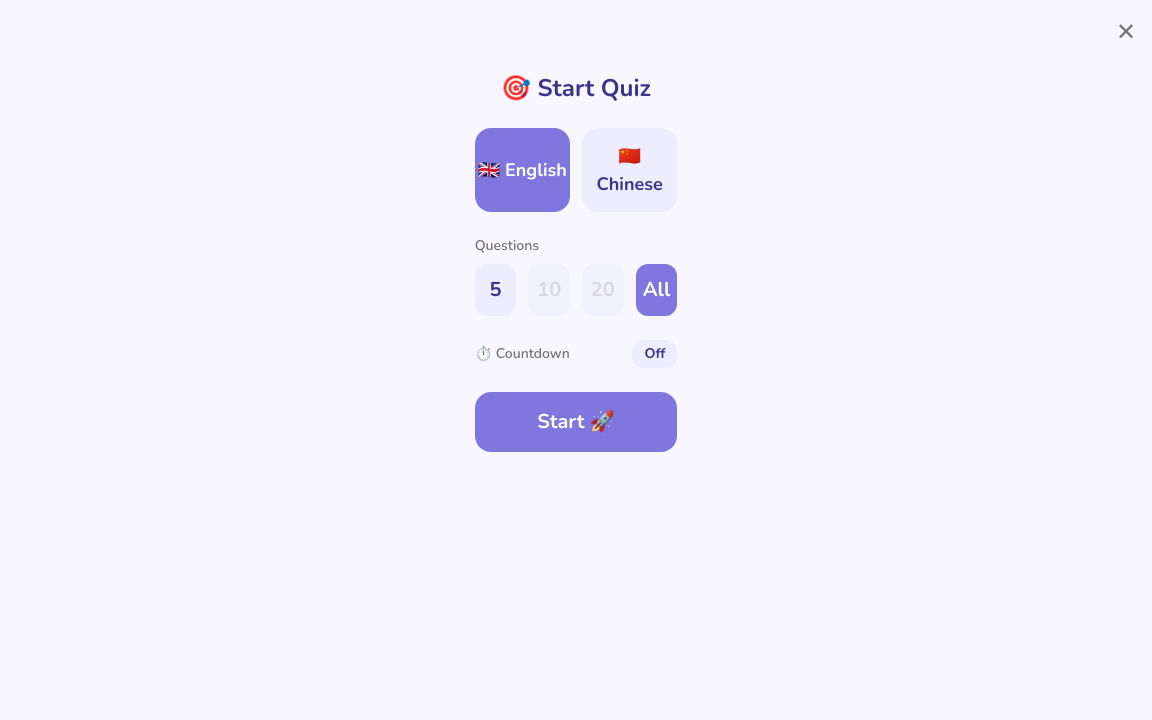
QuizMode — Lobby › shows interval options when countdown is toggled On
Step 1. Click the button "Off" → (655, 354), box [632, 340, 677, 368]
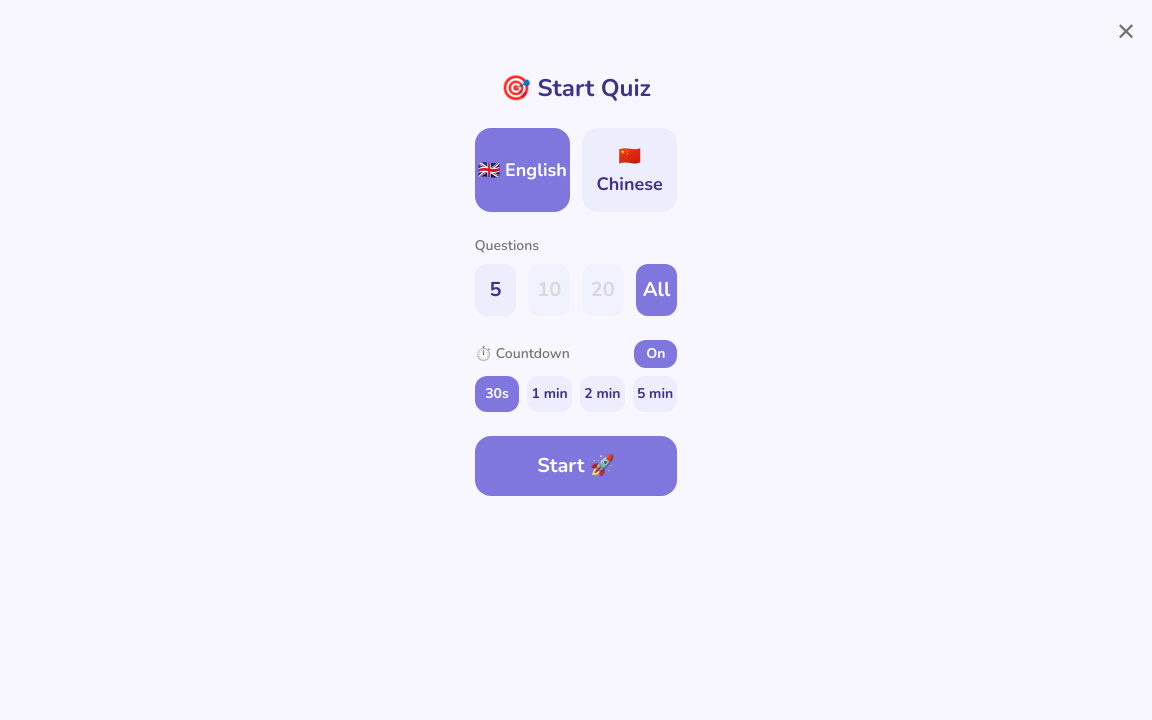
Now the button "30s" is shown, box [475, 376, 519, 412]
Now the button "1 min" is shown, box [527, 376, 572, 412]
Now the button "2 min" is shown, box [580, 376, 625, 412]
